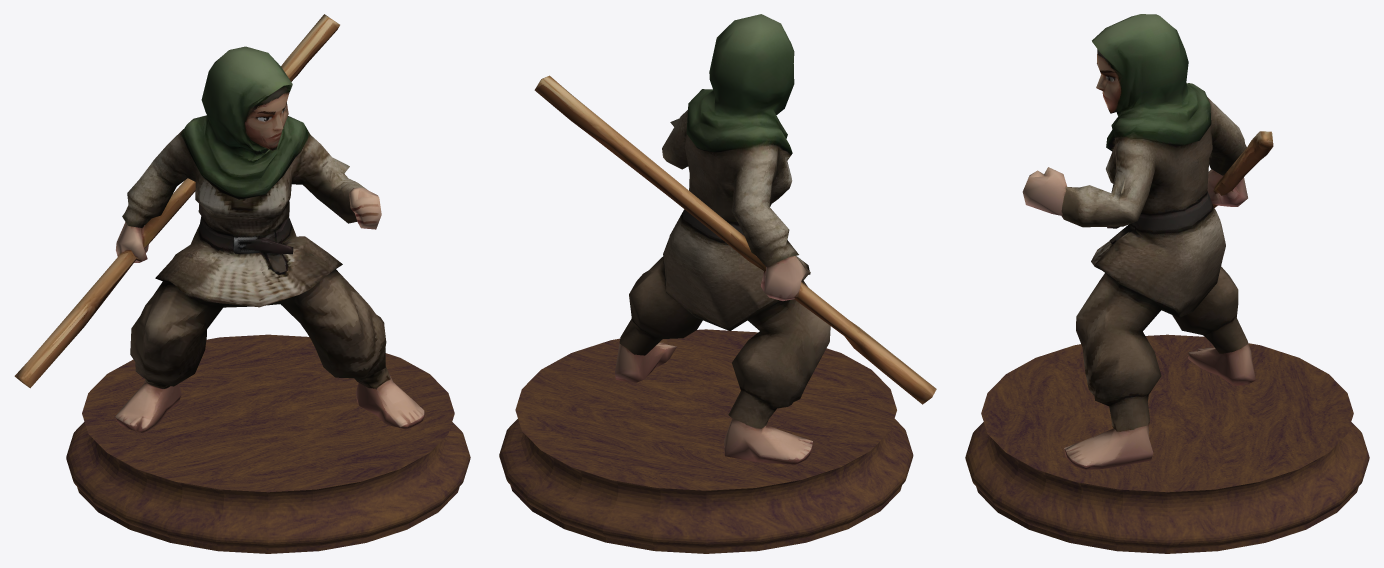
Rendered from leesis.glb.
The picture shows the model from 3 angles, left to right: view 1: azimuth 30°, elevation 25°; view 2: azimuth 150°, elevation 25°; view 3: azimuth 270°, elevation 25°; orthographic projection. The views are drawn at different scales.
Visible parts, largest first — view 1: BézierCurve, tripo_node_92b4d99a-b58f-4301-9610-c63608d83b3d; view 2: BézierCurve, tripo_node_92b4d99a-b58f-4301-9610-c63608d83b3d; view 3: BézierCurve, tripo_node_92b4d99a-b58f-4301-9610-c63608d83b3d.
Boxes of the visible parts, x1=… form: BézierCurve: x1=66, y1=334, x2=470, y2=553; tripo_node_92b4d99a-b58f-4301-9610-c63608d83b3d: x1=14, y1=14, x2=424, y2=432; BézierCurve: x1=499, y1=329, x2=913, y2=553; tripo_node_92b4d99a-b58f-4301-9610-c63608d83b3d: x1=534, y1=14, x2=936, y2=464; BézierCurve: x1=965, y1=334, x2=1369, y2=553; tripo_node_92b4d99a-b58f-4301-9610-c63608d83b3d: x1=1022, y1=14, x2=1273, y2=469.
Bounding box in the file's own units: 1.12 × 1.14 × 0.9545.
Materials: 2 (2 with a texture image).
